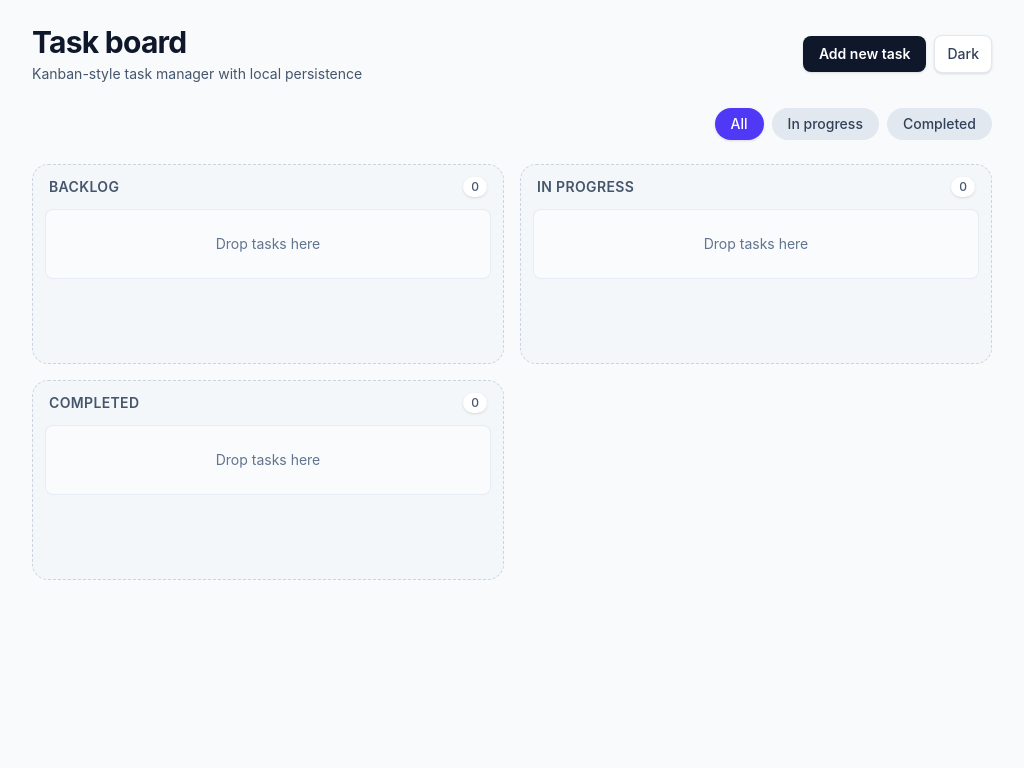
Scenario: App › persists selected priority on new task
Step 1. Click the button "Add new task" → (865,54), box [803,36,926,72]
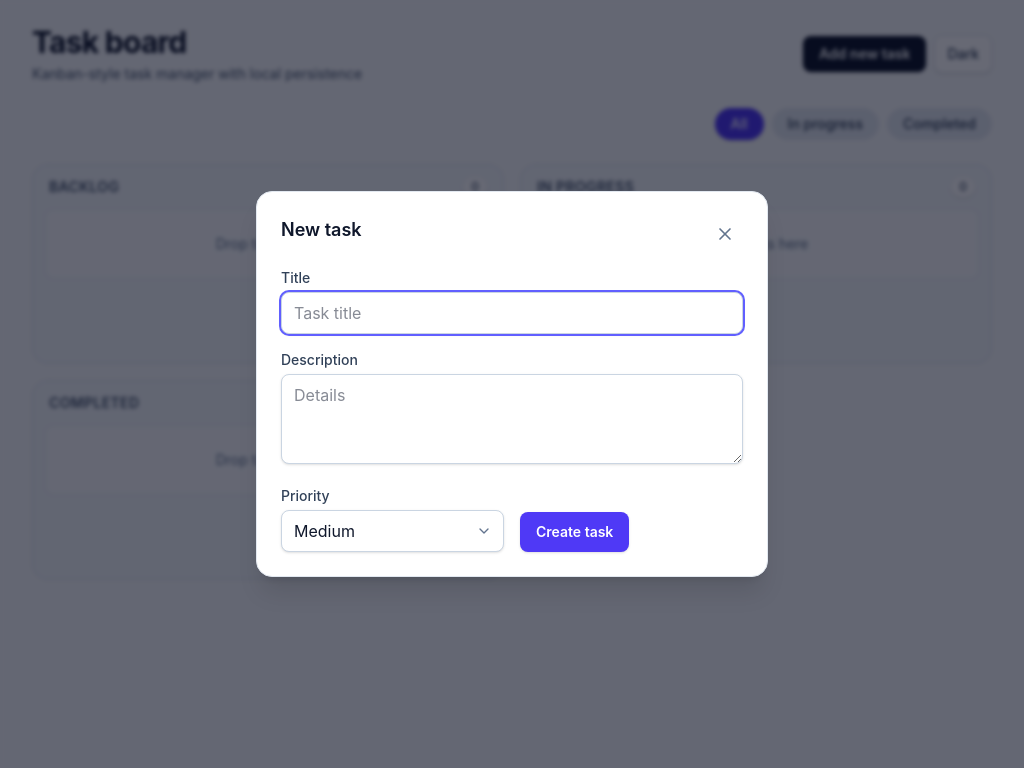
Step 2. Type "Priority check" into the field with placeholder "Task title" → (512,313), box [281,292,743,334]
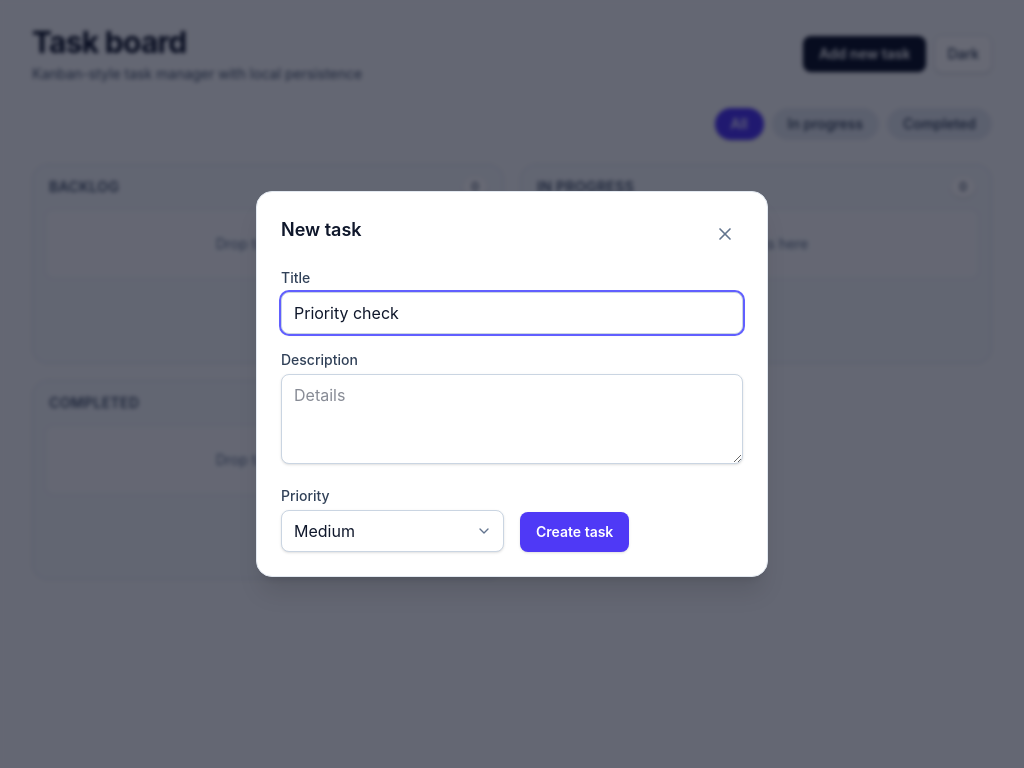
Step 3. Select "High" in the dropdown labelled "Priority" → (392,531), box [281,510,504,552]
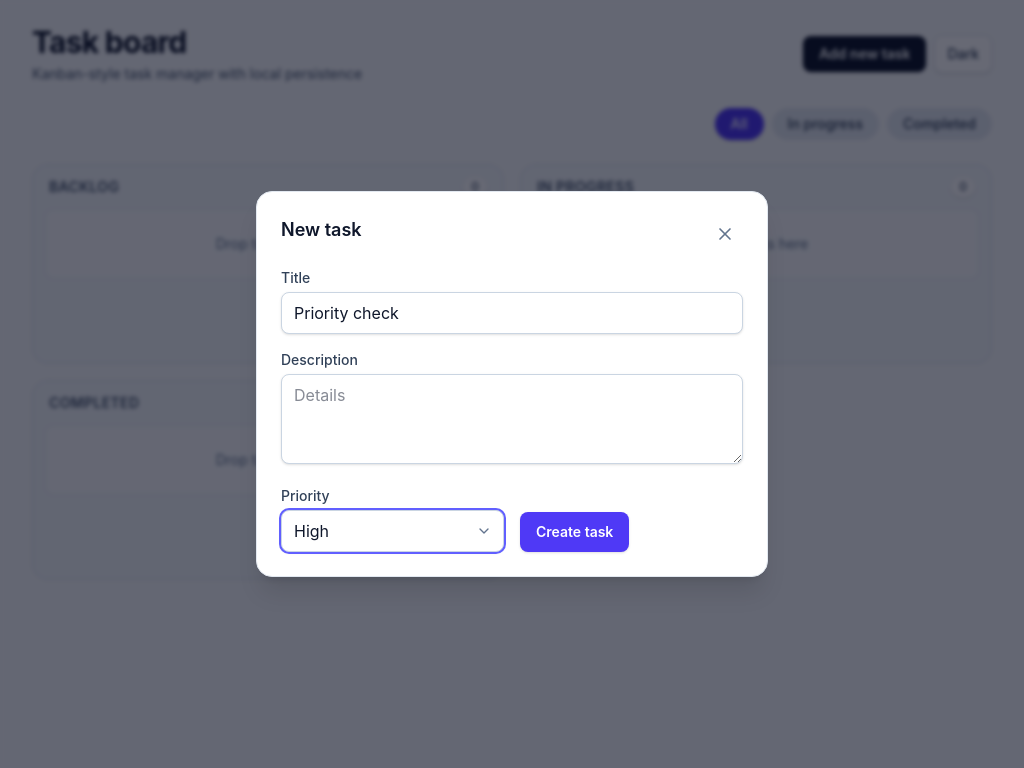
Step 4. Click the button "Create task" → (575,532), box [520,512,629,552]
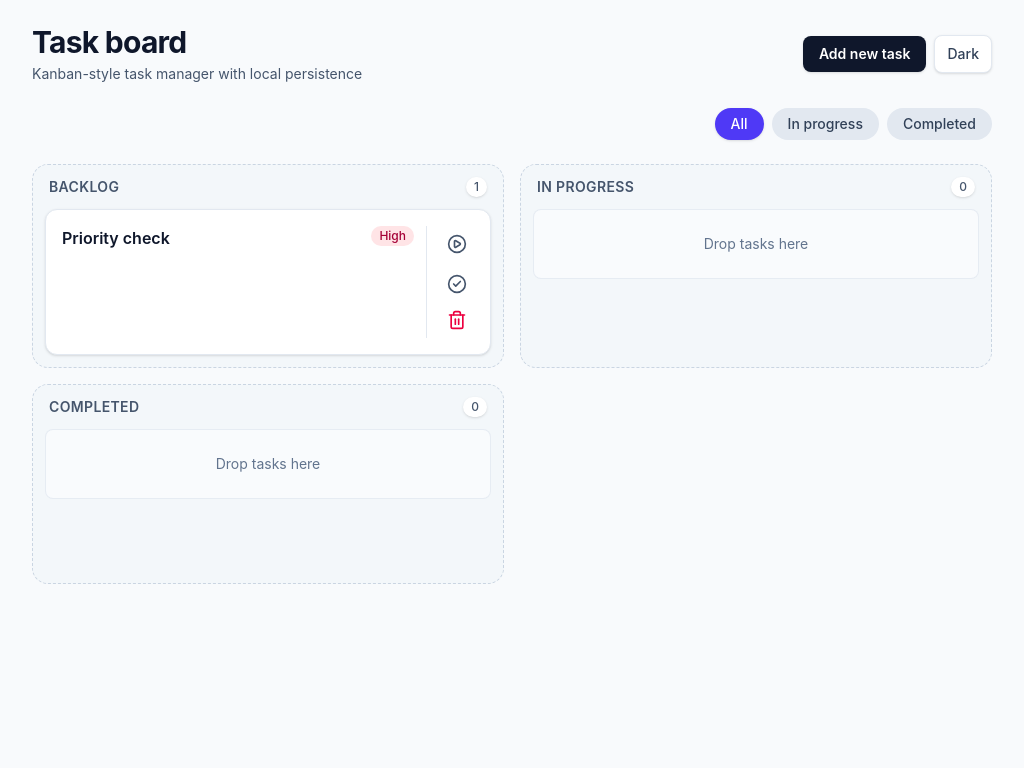
Result: the text "High" is shown at [371,226,414,246]
